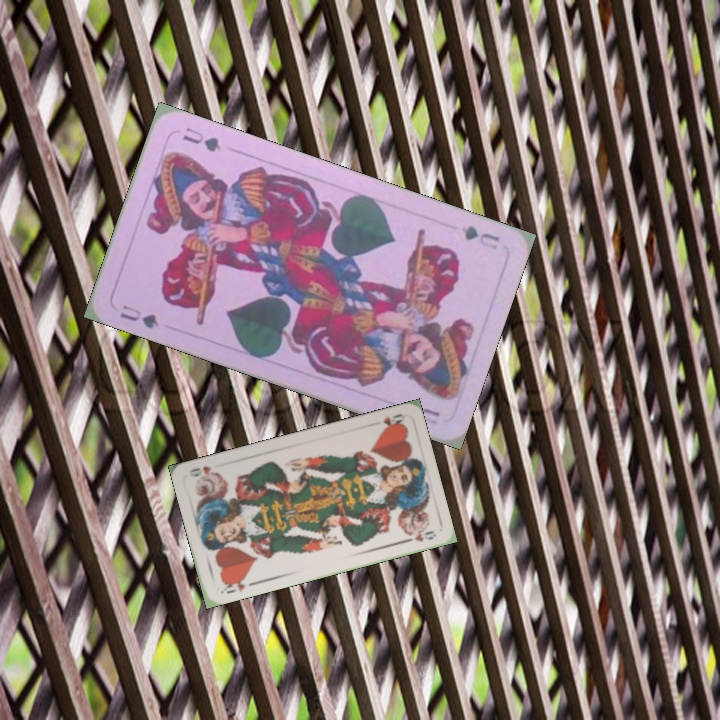GU: (116, 300, 162, 331), (457, 221, 502, 252)
HO: (217, 573, 248, 597), (378, 409, 407, 432)
